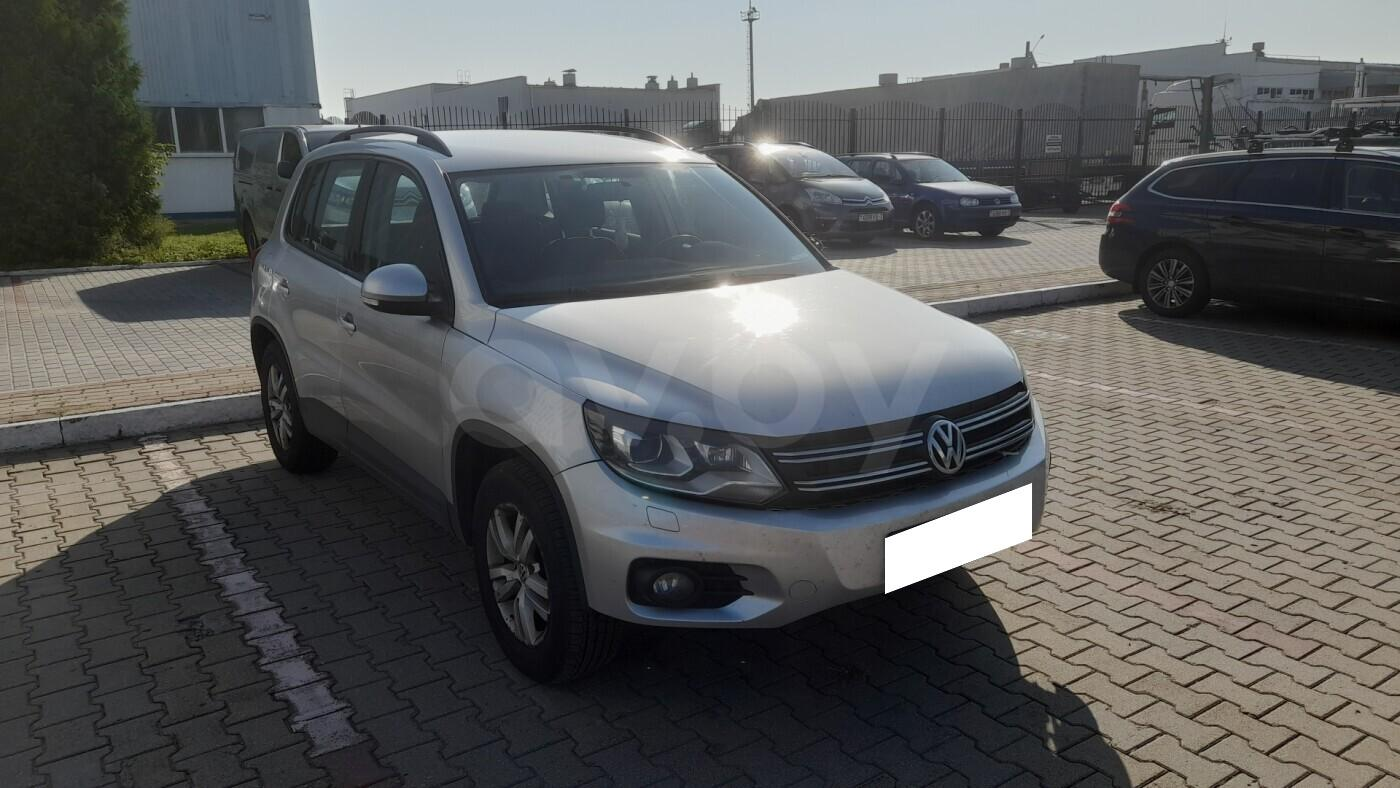Tiguan_2011-2018: (242, 123, 1052, 679)
